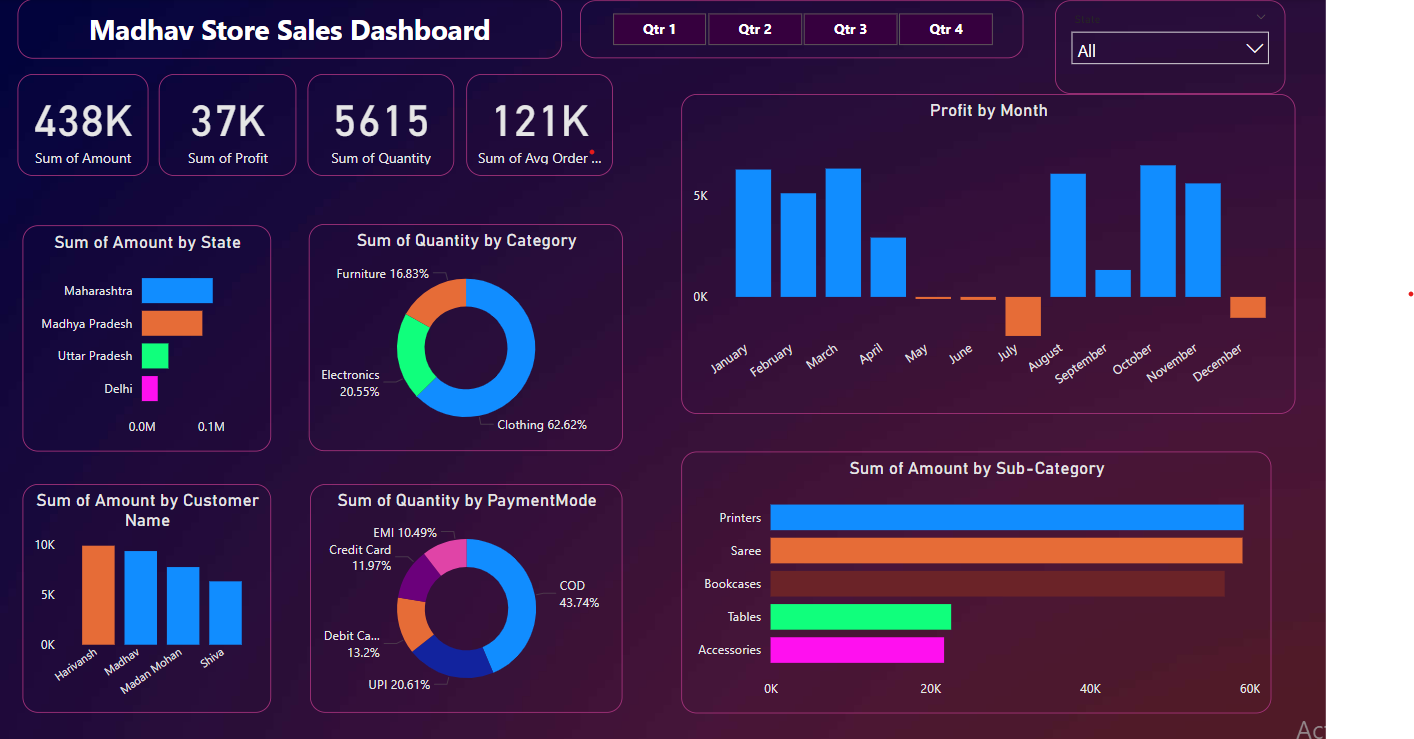

This screenshot's page, from the dashboard's own definition file:
{"tool":"powerbi","page":{"name":"Page 1","canvas":[1280,720],"ordinal":0},"visuals":[{"type":"textbox","box":[16.5,0,525.6,57.6],"z":0},{"type":"columnChart","title":"Profit by Month","fields":{"Category":["Orders (2).Order Date.Variation.Date Hierarchy.Month"],"Y":["Details.Profit"]},"box":[657.3,91.9,592.8,308.7],"z":1},{"type":"barChart","fields":{"Category":["Details.Sub-Category"],"Y":["Details.Amount"]},"box":[657.3,436.4,569.5,252.5],"z":2},{"type":"donutChart","fields":{"Category":["Details.Category"],"Y":["Details.Quantity"]},"box":[297.8,216.8,303.3,219.6],"z":3},{"type":"donutChart","fields":{"Y":["Details.Quantity"],"Category":["Details.PaymentMode"]},"box":[299.1,467.9,301.9,220.9],"z":5},{"type":"card","fields":{"Values":["Details.Amount"]},"box":[16.5,72.7,126.2,98.8],"z":6},{"type":"card","fields":{"Values":["Details.Profit"]},"box":[153.7,72.7,133.1,98.8],"z":7},{"type":"card","fields":{"Values":["Details.Quantity"]},"box":[296.4,72.7,141.3,98.8],"z":8},{"type":"card","fields":{"Values":["Details.Avg Order Val"]},"box":[450.1,72.7,141.3,98.8],"z":9},{"type":"barChart","fields":{"Y":["Details.Amount"],"Category":["Orders (2).State"]},"box":[22,218.2,240.1,218.2],"z":10},{"type":"columnChart","fields":{"Category":["Orders (2).Customer Name"],"Y":["Details.Amount"]},"box":[22,467.9,240.1,220.9],"z":11},{"type":"slicer","fields":{"Values":["Orders (2).Order Date.Variation.Date Hierarchy.Quarter"]},"box":[559.9,1.4,428.1,56.3],"z":12},{"type":"slicer","fields":{"Values":["Orders (2).State"]},"box":[1018.2,1.4,222.3,90.6],"z":13}]}

Visuals, with their boxes on the page's 1280x720 design canvas (x1, y1, x2, y2). These are canvas units, not pixel positions in the 1414x739 screenshot, which may show the page scaled, cropped or inside an application window:
textbox: detection(16, 0, 542, 58)
"Profit by Month" columnChart: detection(657, 92, 1250, 401)
barChart - Details.Sub-Category x Details.Amount: detection(657, 436, 1227, 689)
donutChart - Details.Category x Details.Quantity: detection(298, 217, 601, 436)
donutChart - Details.Quantity x Details.PaymentMode: detection(299, 468, 601, 689)
card - Details.Amount: detection(16, 73, 143, 172)
card - Details.Profit: detection(154, 73, 287, 172)
card - Details.Quantity: detection(296, 73, 438, 172)
card - Details.Avg Order Val: detection(450, 73, 591, 172)
barChart - Details.Amount x Orders (2).State: detection(22, 218, 262, 436)
columnChart - Orders (2).Customer Name x Details.Amount: detection(22, 468, 262, 689)
slicer - Orders (2).Order Date.Variation.Date Hierarchy.Quarter: detection(560, 1, 988, 58)
slicer - Orders (2).State: detection(1018, 1, 1240, 92)
